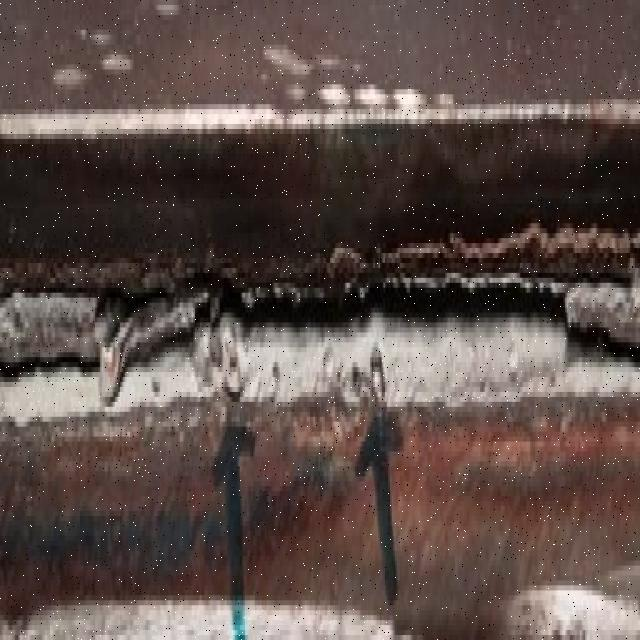Bad Weld: (5, 238, 640, 396)
Defect: (95, 283, 600, 342)
